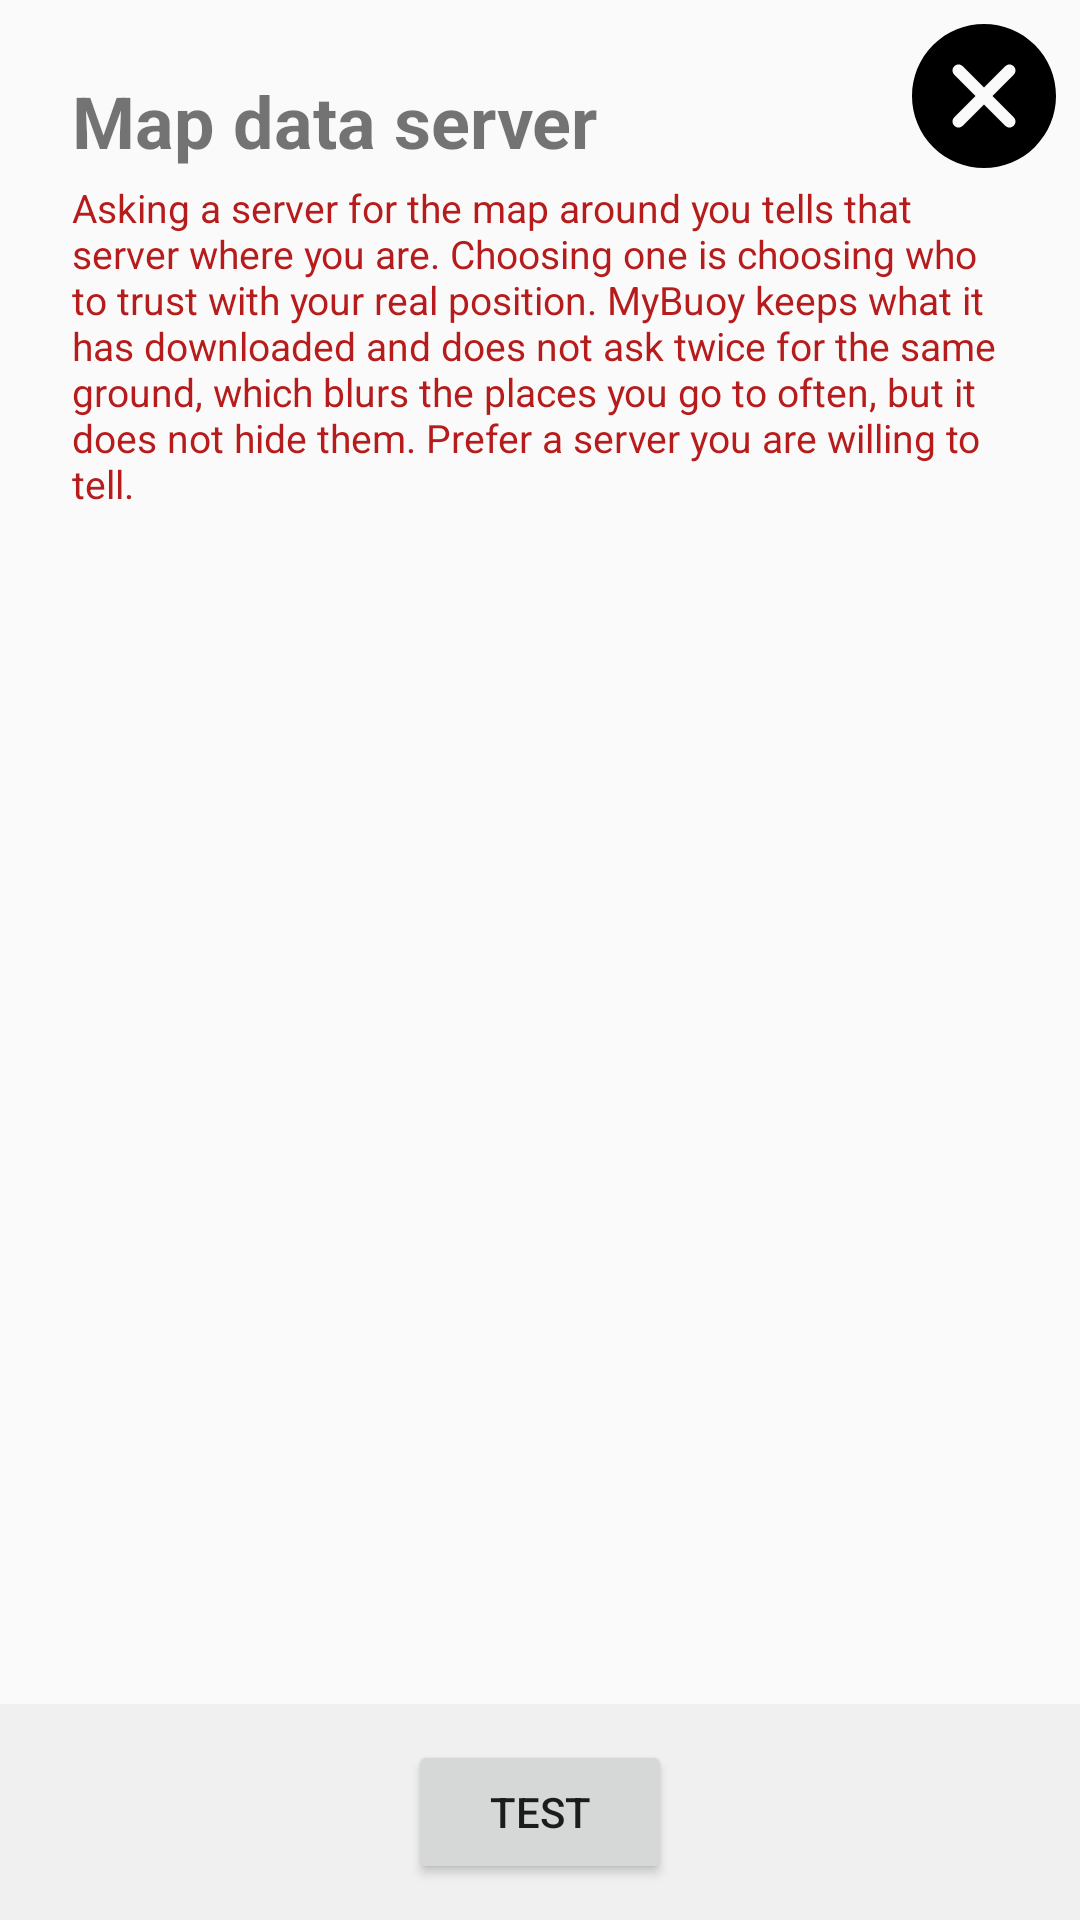

Icon click points for this 1080 x 1920 phone screenshot, format [x,y]:
cancel: [984,96]
